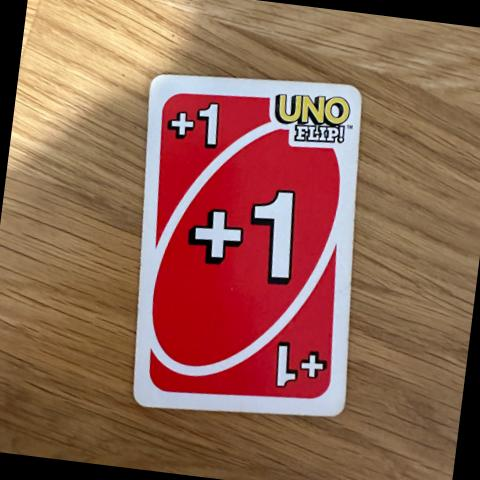lred-10: (154, 86, 240, 168)
